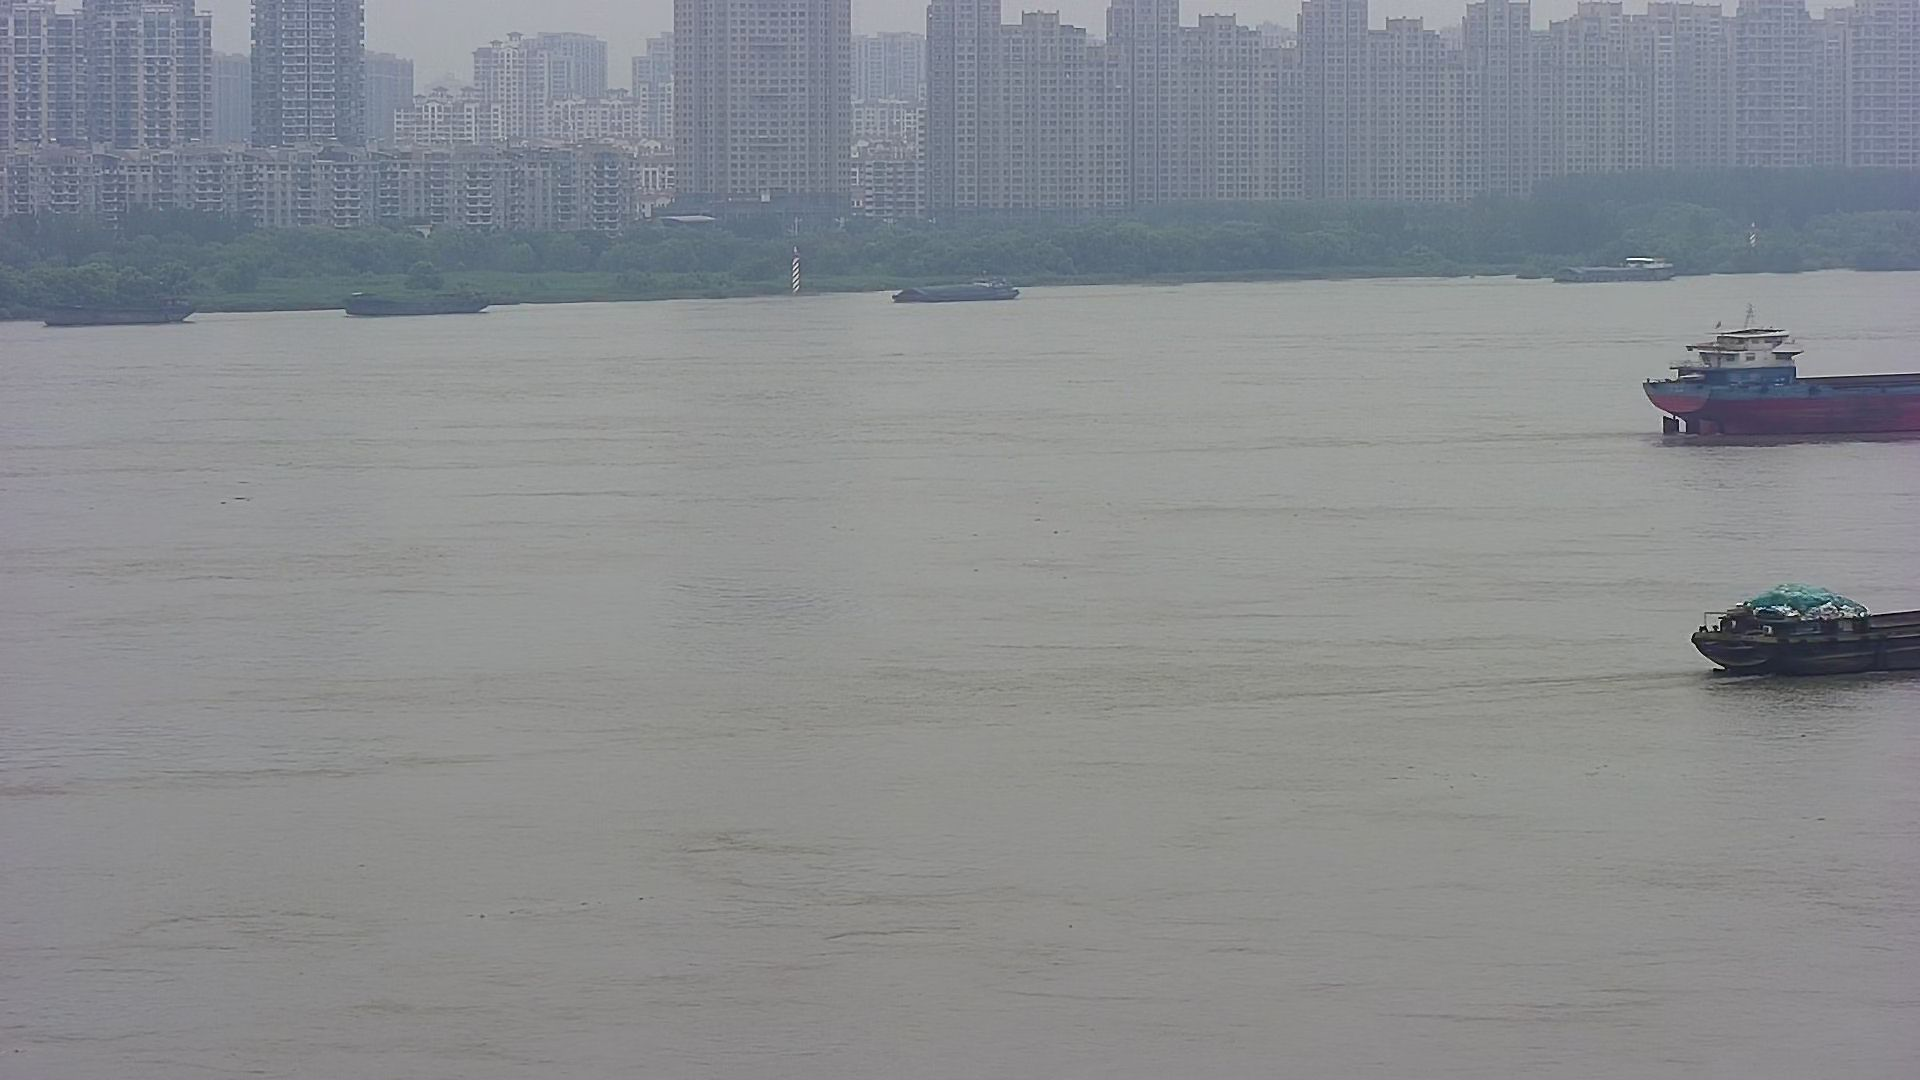ship: (1639, 311, 1920, 455), (1688, 559, 1913, 691), (1534, 235, 1688, 289), (44, 285, 196, 334), (332, 278, 497, 323), (880, 262, 1034, 309)
